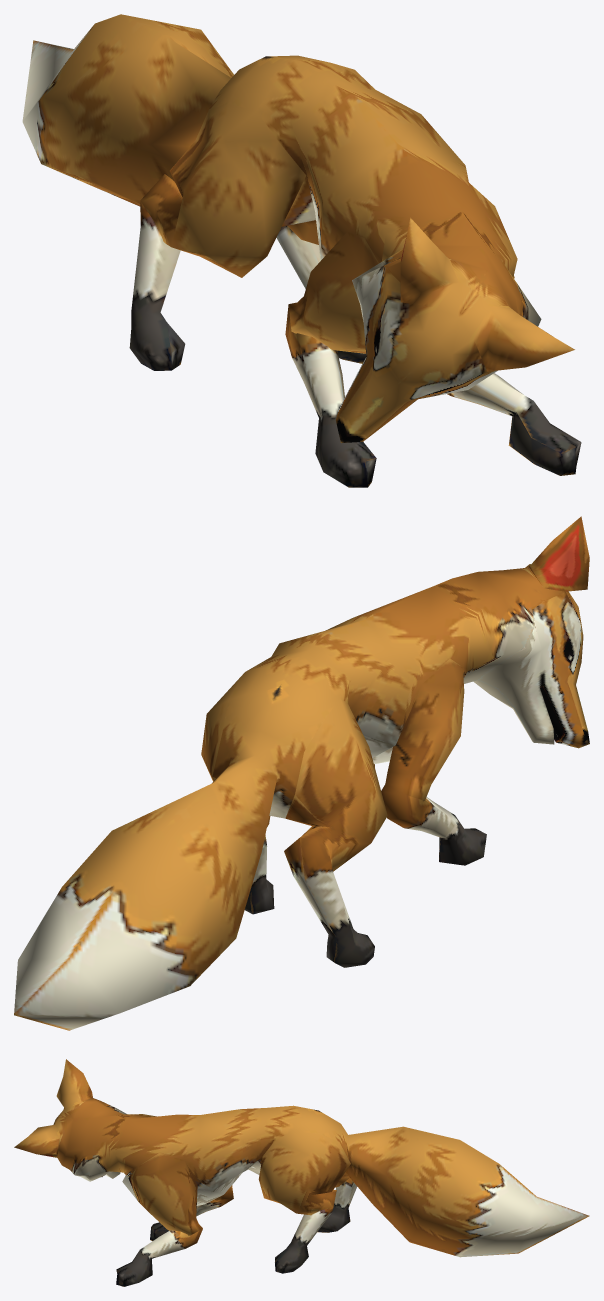
The model's file is Fox.obj.
The picture shows the model from 3 angles, top to bottom: view 1: azimuth 30°, elevation 25°; view 2: azimuth 150°, elevation 25°; view 3: azimuth 270°, elevation 25°; orthographic projection. The views are drawn at different scales.
Visible parts, largest first — view 1: Inst3D_RefRep.282; view 2: Inst3D_RefRep.282; view 3: Inst3D_RefRep.282.
Boxes of the visible parts, box(x1,y1,x2,y2) form: Inst3D_RefRep.282: box(22, 14, 581, 487); Inst3D_RefRep.282: box(14, 516, 589, 1030); Inst3D_RefRep.282: box(14, 1059, 589, 1286).
Bounding box in the file's own units: 2.84 × 3.51 × 10.56.
